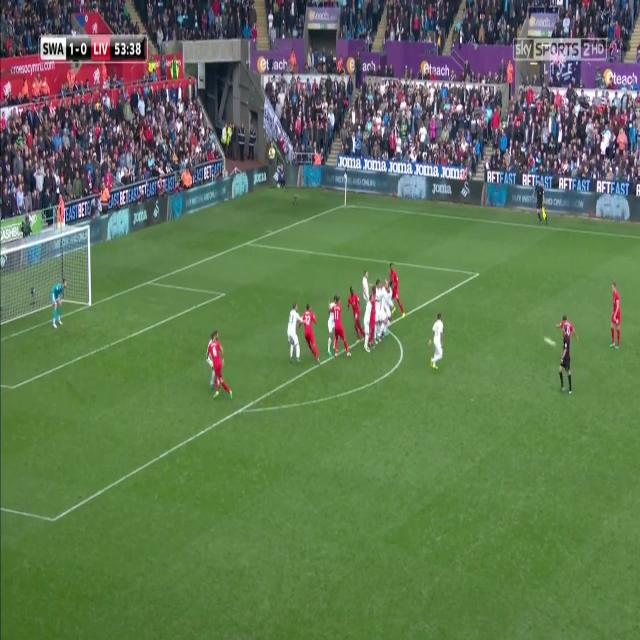Ball: (544, 334, 556, 348)
Goalkeeper: (50, 274, 69, 331)
Player: (206, 329, 235, 402), (300, 301, 322, 366), (388, 256, 409, 321), (286, 302, 308, 364), (333, 296, 353, 360), (346, 284, 366, 346), (428, 309, 446, 372), (608, 282, 623, 352), (326, 292, 337, 359), (379, 278, 391, 338), (557, 311, 577, 342), (368, 283, 377, 351), (361, 266, 371, 305)
Referee: (556, 327, 570, 399), (531, 180, 549, 230)
